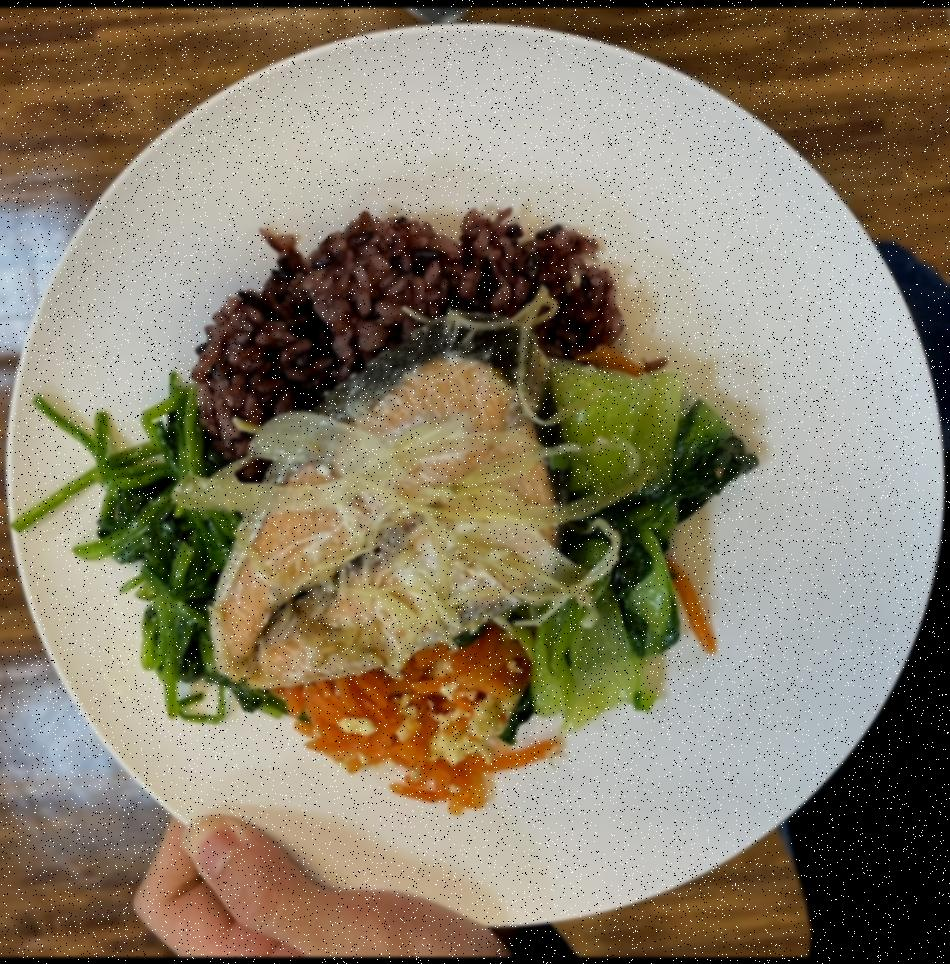big fried chicken leg: (7, 15, 950, 957)
braised fish: (196, 216, 624, 473)
braised fish fillet: (515, 348, 754, 727), (25, 375, 238, 732), (278, 640, 558, 814)
brown rice: (208, 324, 564, 693)
